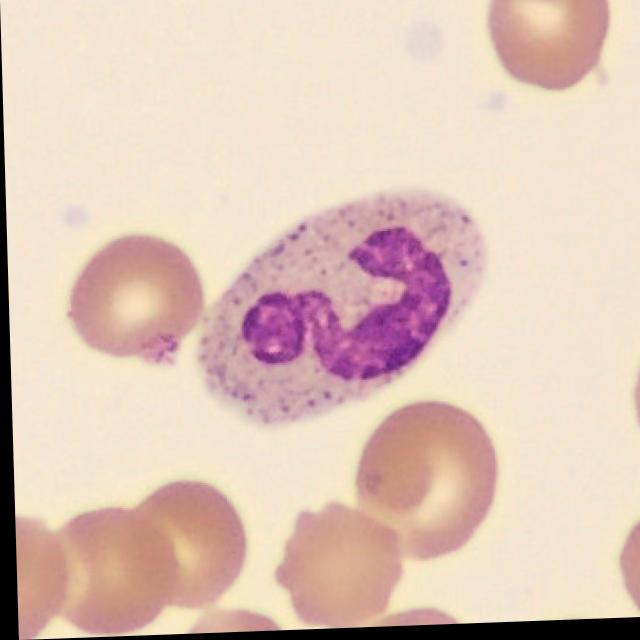Neutrofilo segmentado: (189, 192, 486, 432)
